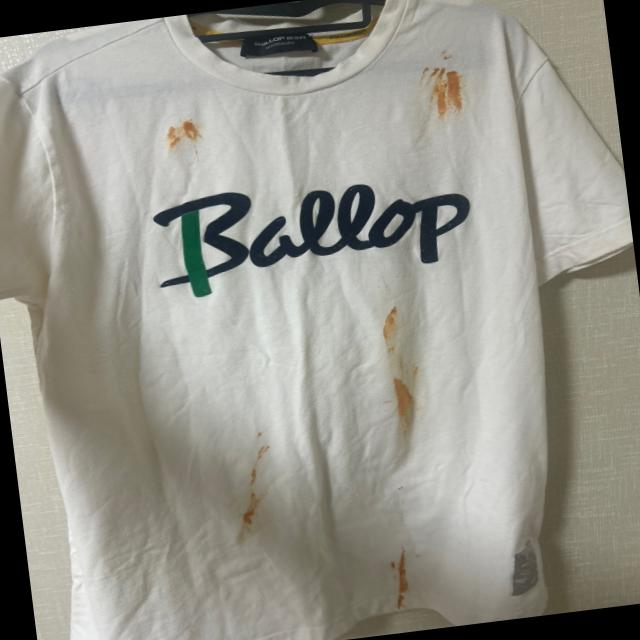stain: (422, 63, 472, 117), (387, 376, 422, 436), (244, 430, 278, 484), (161, 115, 207, 154), (389, 550, 413, 614), (235, 488, 269, 531), (395, 356, 427, 381), (380, 304, 398, 348), (391, 483, 406, 496), (441, 49, 455, 60)
